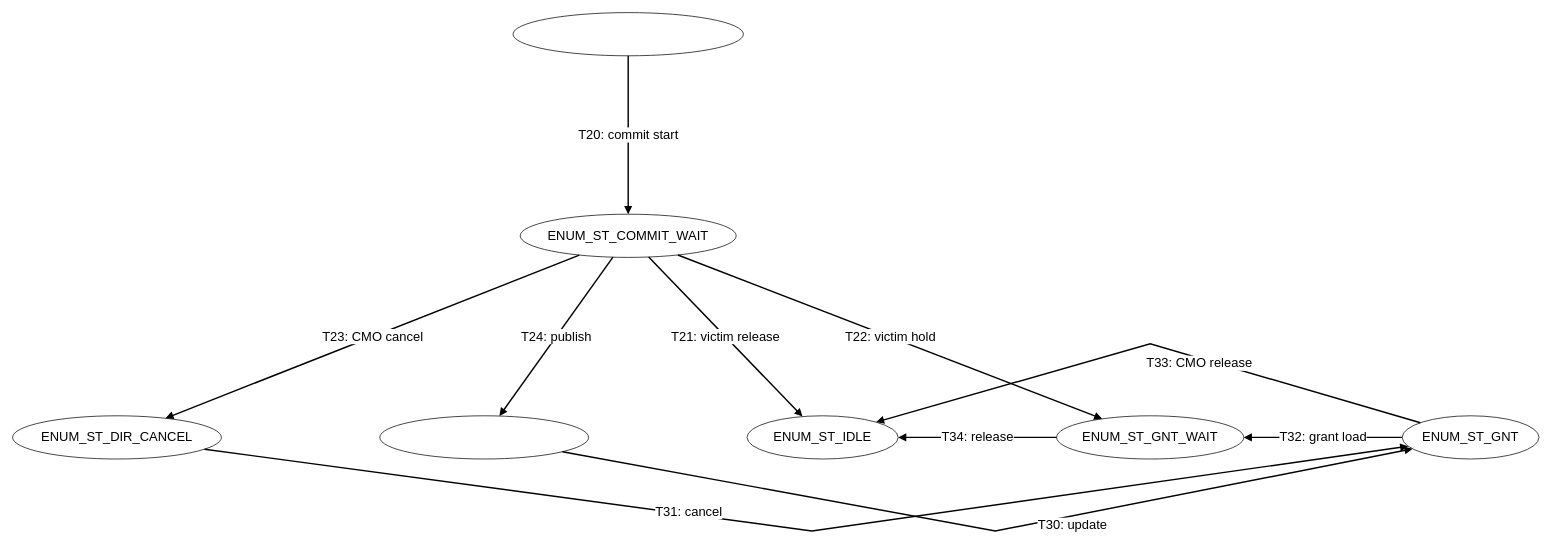
Some shapes in this 1552 by 550 pixel diagram are drawn without their labels. The shapes that lost their labels are listed below. From the top down, each one's centre as x and y in pixels, then its label:
At (x=627, y=34): "ENUM_ST_COMMIT_START".
At (x=484, y=437): "ENUM_ST_DIR_UPDATE".
